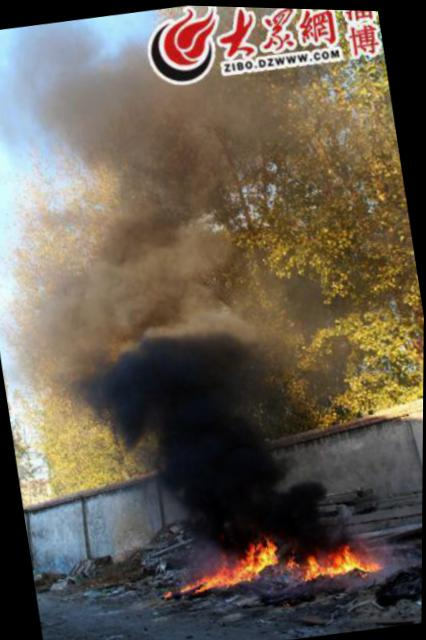fire: (180, 560, 252, 590), (301, 549, 357, 576), (238, 539, 280, 571), (357, 556, 379, 569)
